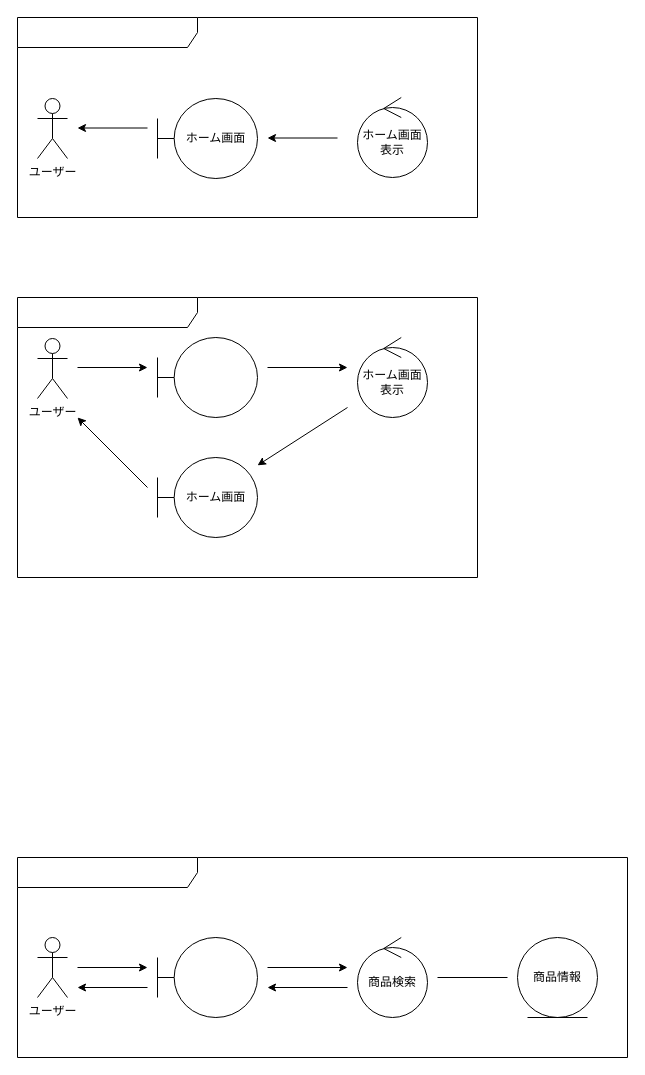
Some shapes in this 645 by 1075 pixel diagram are drawn without their labels. Each missing label, with the box of its shape:
サイトを訪問する: (16, 16, 478, 218)
ナビゲーションバー: (156, 336, 258, 418)
ホーム画面を表示: (16, 296, 478, 578)
商品を検索する: (16, 856, 628, 1058)
商品検索画面: (156, 936, 258, 1018)
